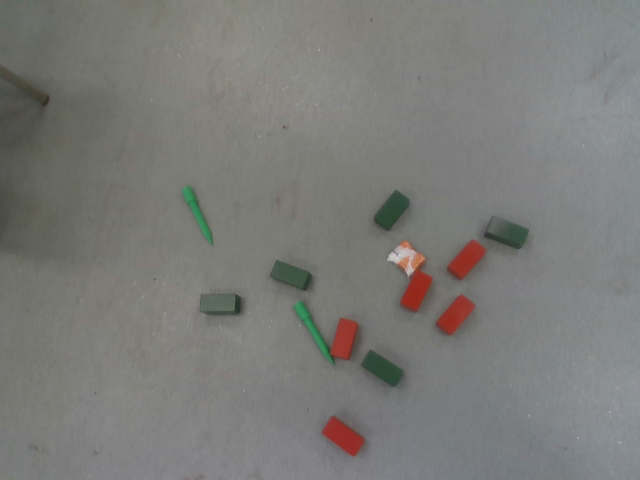Probe: (292, 297, 339, 369), (179, 183, 216, 248)
